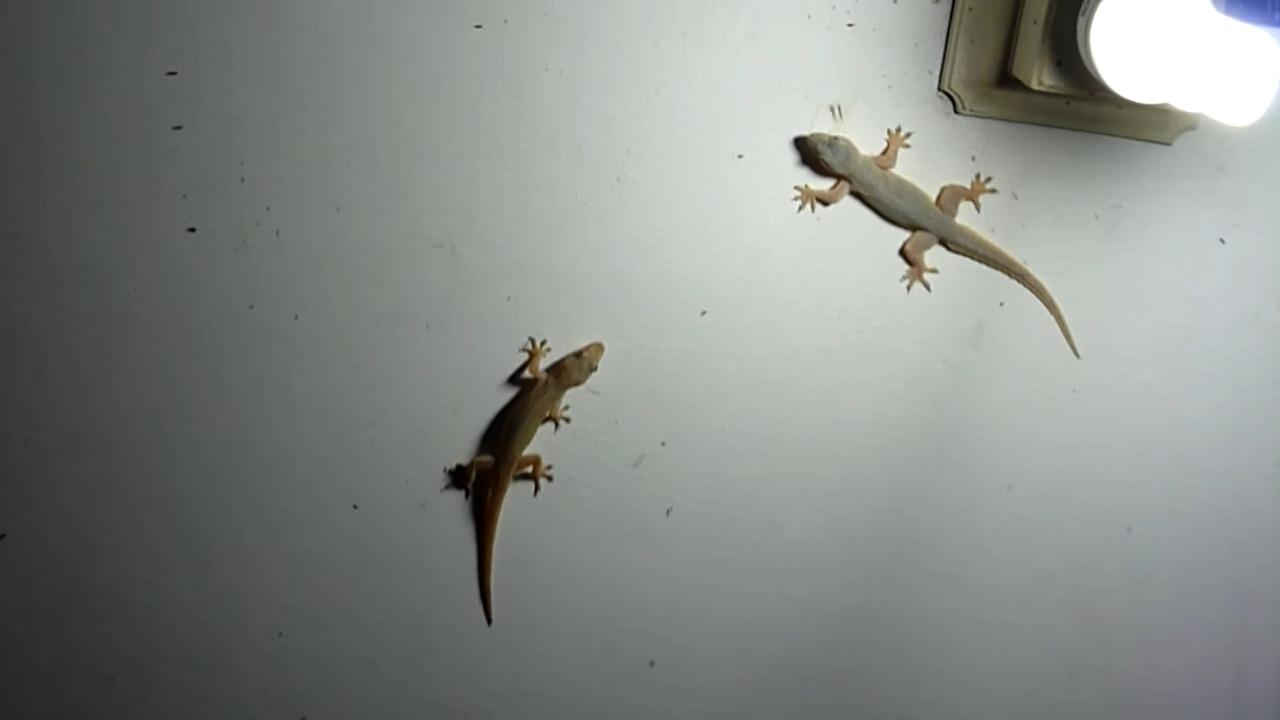lizard: (775, 123, 1088, 364), (438, 331, 627, 624)
